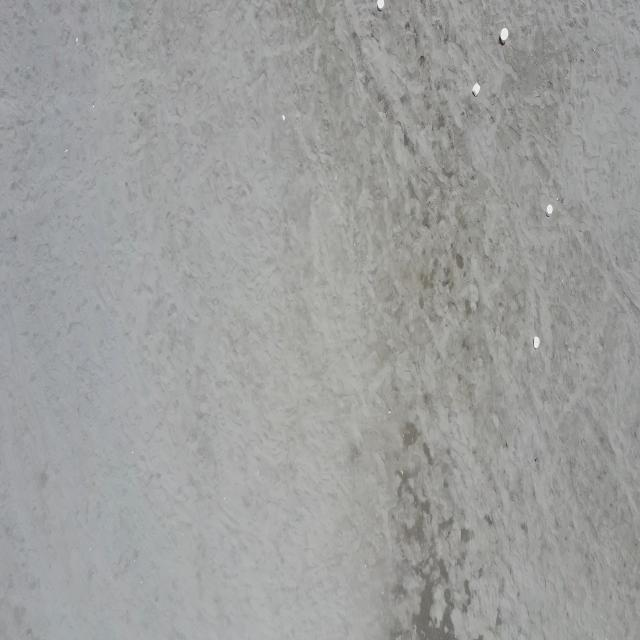take-away-containers: (499, 27, 509, 44), (472, 81, 481, 98), (545, 203, 553, 218), (533, 335, 540, 349), (376, 0, 384, 10)
